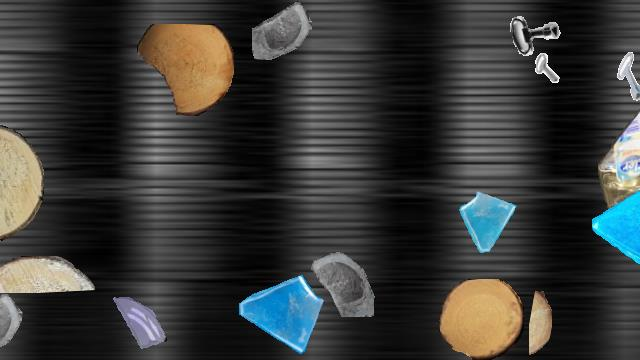glass: (235, 269, 325, 359), (301, 240, 377, 316), (592, 177, 640, 267), (456, 190, 520, 254), (252, 1, 312, 61), (110, 295, 168, 353), (0, 294, 22, 356)
metal: (503, 1, 565, 63), (511, 51, 559, 99), (609, 51, 640, 101)
plastic: (598, 101, 640, 247)
wood: (137, 24, 233, 116), (439, 279, 523, 359), (0, 122, 43, 240), (0, 256, 95, 292), (529, 291, 551, 359)
